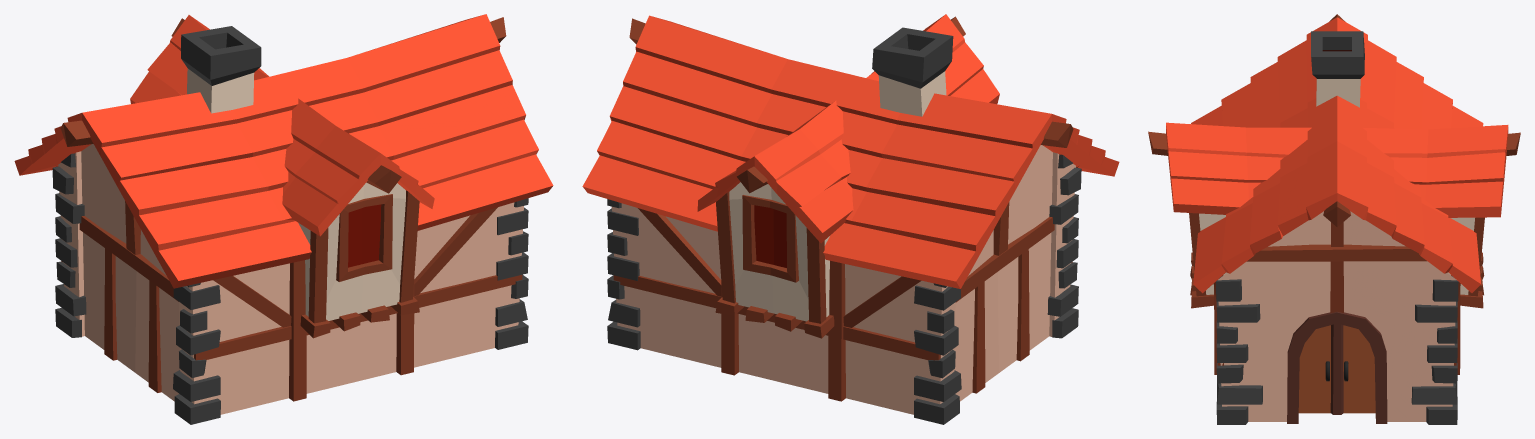
Rendered from House_2.glb.
3 views of the same model, side by side, from view 1: azimuth 30°, elevation 25°; view 2: azimuth 150°, elevation 25°; view 3: azimuth 270°, elevation 25° (orthographic). The views are drawn at different scales.
Parts seen in each view (by area): view 1: Cube.046_Medieval_0, Cube.001_Medieval_0, Cube.004_Medieval_0, Cube.009_Medieval_0, Cube.047_Medieval_0, Cube.003_Medieval_0, Cube.007_Medieval_0, Cube.008_Medieval_0, Cube.005_Medieval_0, Cube.021_Medieval_0; view 2: Cube.046_Medieval_0, Cube.001_Medieval_0, Cube.004_Medieval_0, Cube.009_Medieval_0, Cube.047_Medieval_0, Cube.003_Medieval_0, Cube.007_Medieval_0, Cube.008_Medieval_0, Cube.005_Medieval_0, Cube.021_Medieval_0; view 3: Cube.046_Medieval_0, Cube.001_Medieval_0, Cube.047_Medieval_0, Cube.009_Medieval_0, Cube.004_Medieval_0, Cube.007_Medieval_0, Cube.002_Medieval_0, Cube.021_Medieval_0, Cube.003_Medieval_0, Cube.005_Medieval_0.
Part boxes in pixels (x1,y1,x2,y2): Cube.046_Medieval_0: (14,14,553,288); Cube.001_Medieval_0: (58,144,523,414); Cube.004_Medieval_0: (104,182,419,392); Cube.009_Medieval_0: (52,153,528,424); Cube.047_Medieval_0: (130,15,434,236); Cube.003_Medieval_0: (55,165,522,401); Cube.007_Medieval_0: (181,26,261,113); Cube.008_Medieval_0: (79,216,178,301); Cube.005_Medieval_0: (60,17,506,146); Cube.021_Medieval_0: (171,18,401,193); Cube.046_Medieval_0: (582,15,1119,288); Cube.001_Medieval_0: (611,145,1075,414); Cube.004_Medieval_0: (715,182,1029,393); Cube.009_Medieval_0: (607,154,1081,424); Cube.047_Medieval_0: (697,14,999,243); Cube.003_Medieval_0: (613,166,1078,401); Cube.007_Medieval_0: (872,27,953,116); Cube.008_Medieval_0: (955,217,1054,302); Cube.005_Medieval_0: (629,18,1073,147); Cube.021_Medieval_0: (737,16,965,193); Cube.046_Medieval_0: (1191,17,1483,413); Cube.001_Medieval_0: (1218,211,1456,421); Cube.047_Medieval_0: (1166,122,1508,217); Cube.009_Medieval_0: (1216,276,1458,424); Cube.004_Medieval_0: (1189,213,1484,414); Cube.007_Medieval_0: (1311,31,1364,107); Cube.002_Medieval_0: (1287,311,1387,423); Cube.021_Medieval_0: (1148,131,1520,155); Cube.003_Medieval_0: (1213,275,1460,374); Cube.005_Medieval_0: (1323,14,1350,227).
Size of what is drawn, in the model's own units: 5.88 by 3.99 by 4.84.
Materials: 1 (1 with a texture image).
